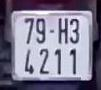1: (68, 47, 81, 76), (54, 46, 64, 75)
2: (38, 47, 53, 75)
3: (68, 16, 82, 46)
4: (24, 47, 36, 74)
7: (23, 16, 36, 44)
9: (34, 15, 47, 45)
H: (55, 15, 69, 45)
